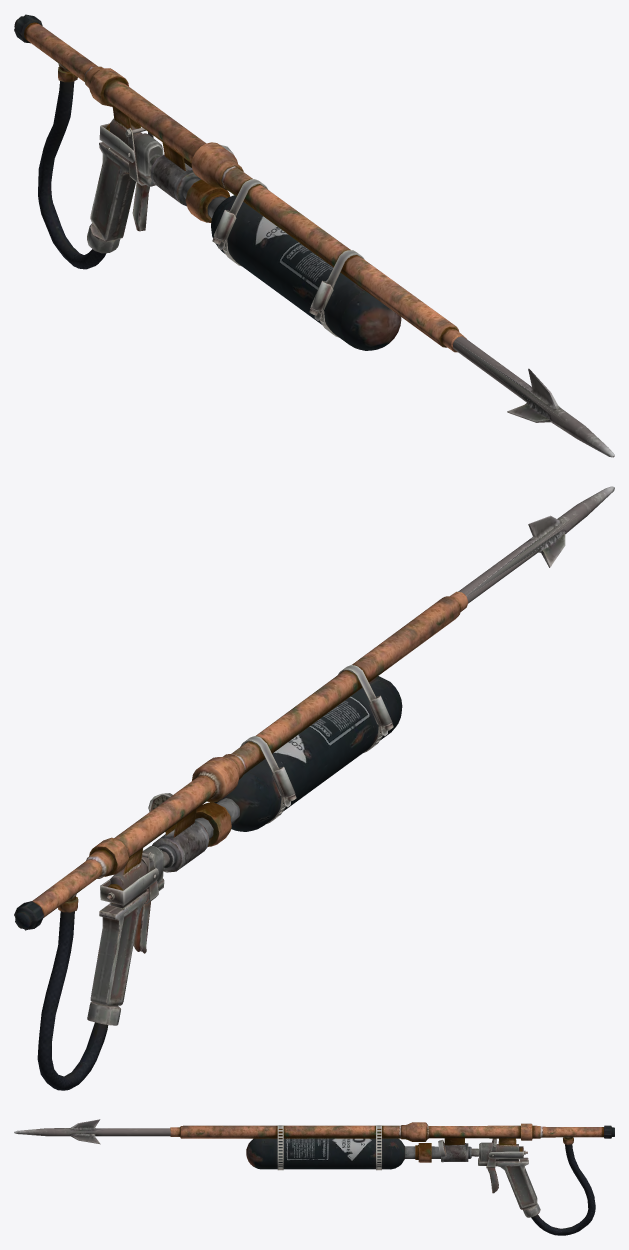
File: speargun.entity.glb
3 renders of one model, top to bottom at view 1: azimuth 30°, elevation 25°; view 2: azimuth 150°, elevation 25°; view 3: azimuth 270°, elevation 25°, orthographic. The views are drawn at different scales.
Visible parts, largest first — view 1: SpearGun_LOD0, SpearGunAmmo_LOD0; view 2: SpearGun_LOD0, SpearGunAmmo_LOD0; view 3: SpearGun_LOD0, SpearGunAmmo_LOD0.
Part boxes in pixels (x1,y1,x2,y2): SpearGun_LOD0: (14, 14, 466, 352); SpearGunAmmo_LOD0: (453, 336, 614, 457); SpearGun_LOD0: (14, 591, 468, 1090); SpearGunAmmo_LOD0: (458, 486, 614, 603); SpearGun_LOD0: (170, 1122, 614, 1235); SpearGunAmmo_LOD0: (14, 1119, 170, 1144).
Size of the model in its own units: 0.0888 by 0.2355 by 1.1.
Materials: 1 (1 with a texture image).
